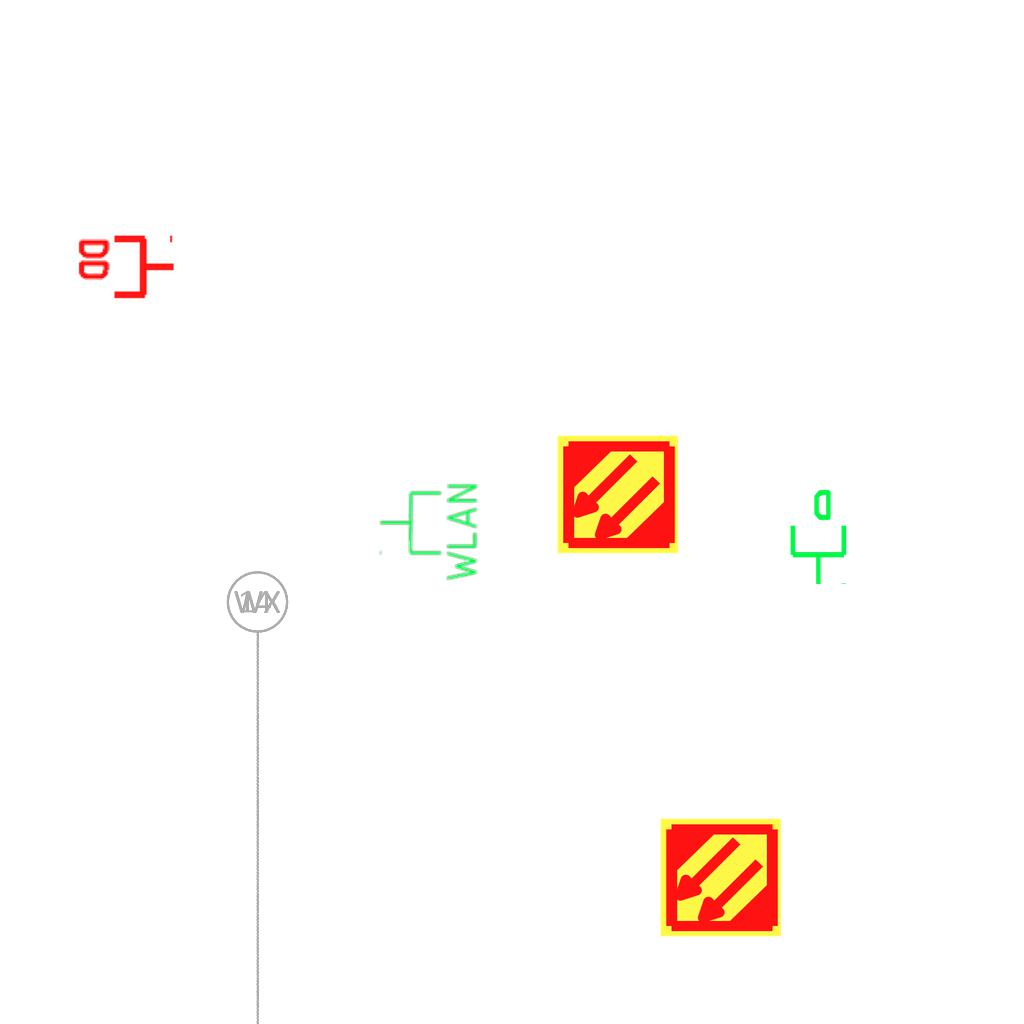ASR_Ansaugrauchmelder: (555, 432, 680, 557), (658, 815, 783, 940)
Datenanschluss_einfach: (782, 487, 851, 587)
Datenanschluss_zweifach: (74, 234, 177, 303)
WLAN: (377, 480, 481, 585)
